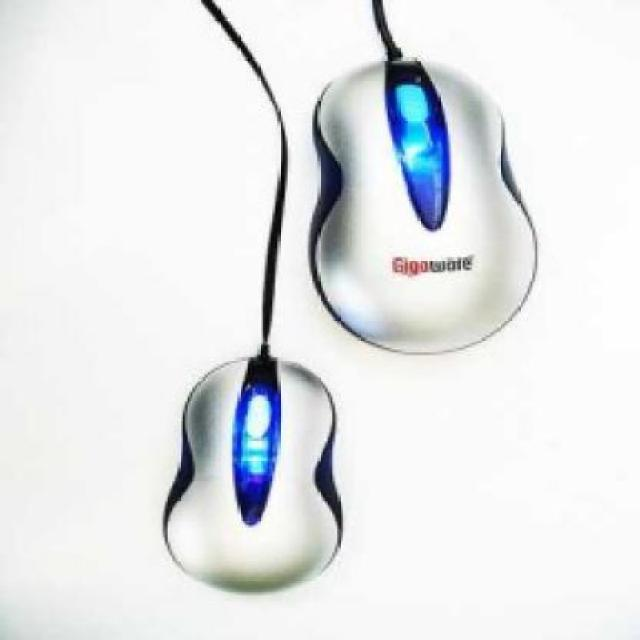mause: (305, 40, 580, 365), (167, 347, 365, 605)
